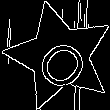O_NE: (26, 23, 93, 90)
